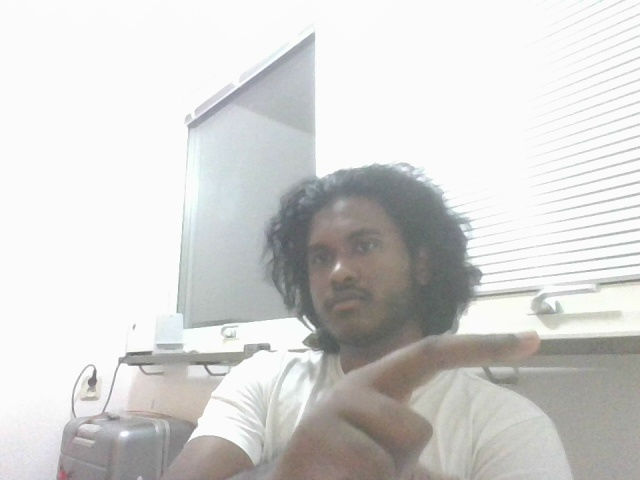no: (269, 317, 552, 480)
